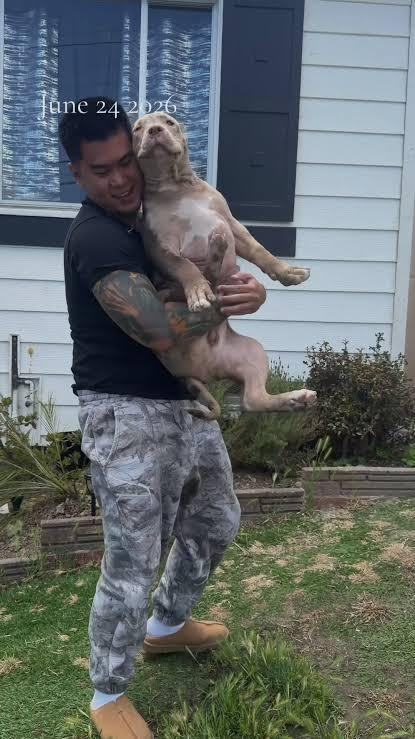adult_dog: (125, 110, 317, 420)
non-dog: (56, 111, 266, 739)
